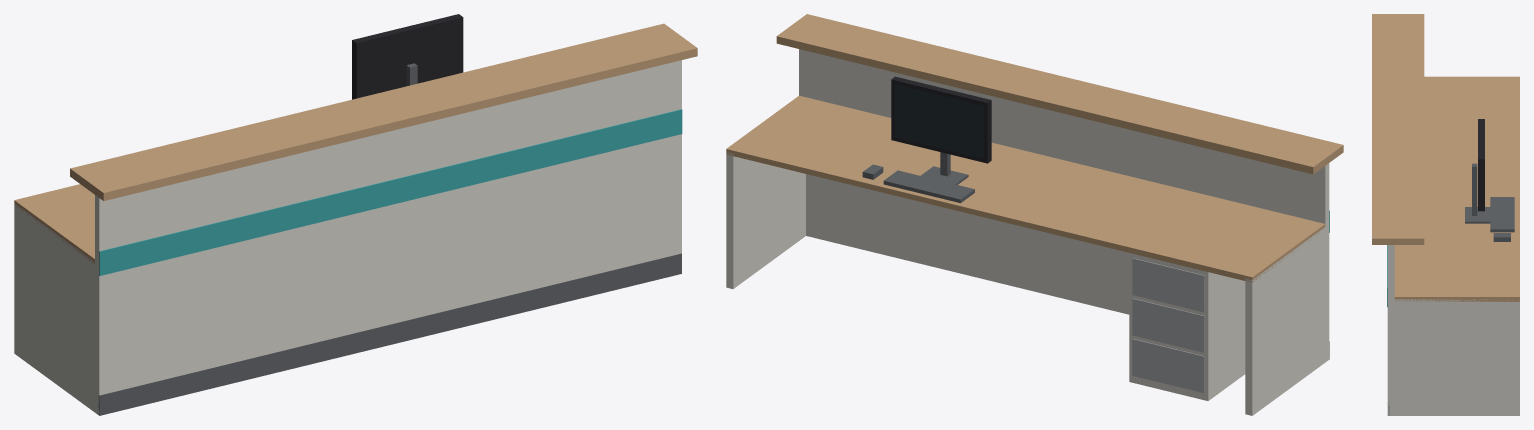
File: Nursing_Station_Desk.fbx
The picture shows the model from 3 angles, left to right: view 1: azimuth 30°, elevation 25°; view 2: azimuth 150°, elevation 25°; view 3: azimuth 270°, elevation 25°; orthographic projection. The views are drawn at different scales.
Parts seen in each view (by area): view 1: Nursing_Station_Desk; view 2: Nursing_Station_Desk, Screen; view 3: Nursing_Station_Desk.
Boxes of the visible parts, x1=… form: Nursing_Station_Desk: x1=14, y1=14, x2=697, y2=415; Nursing_Station_Desk: x1=726, y1=14, x2=1343, y2=415; Screen: x1=894, y1=84, x2=983, y2=158; Nursing_Station_Desk: x1=1372, y1=14, x2=1519, y2=415.
Size of the model in its own units: 3.06 by 1.25 by 0.85.
